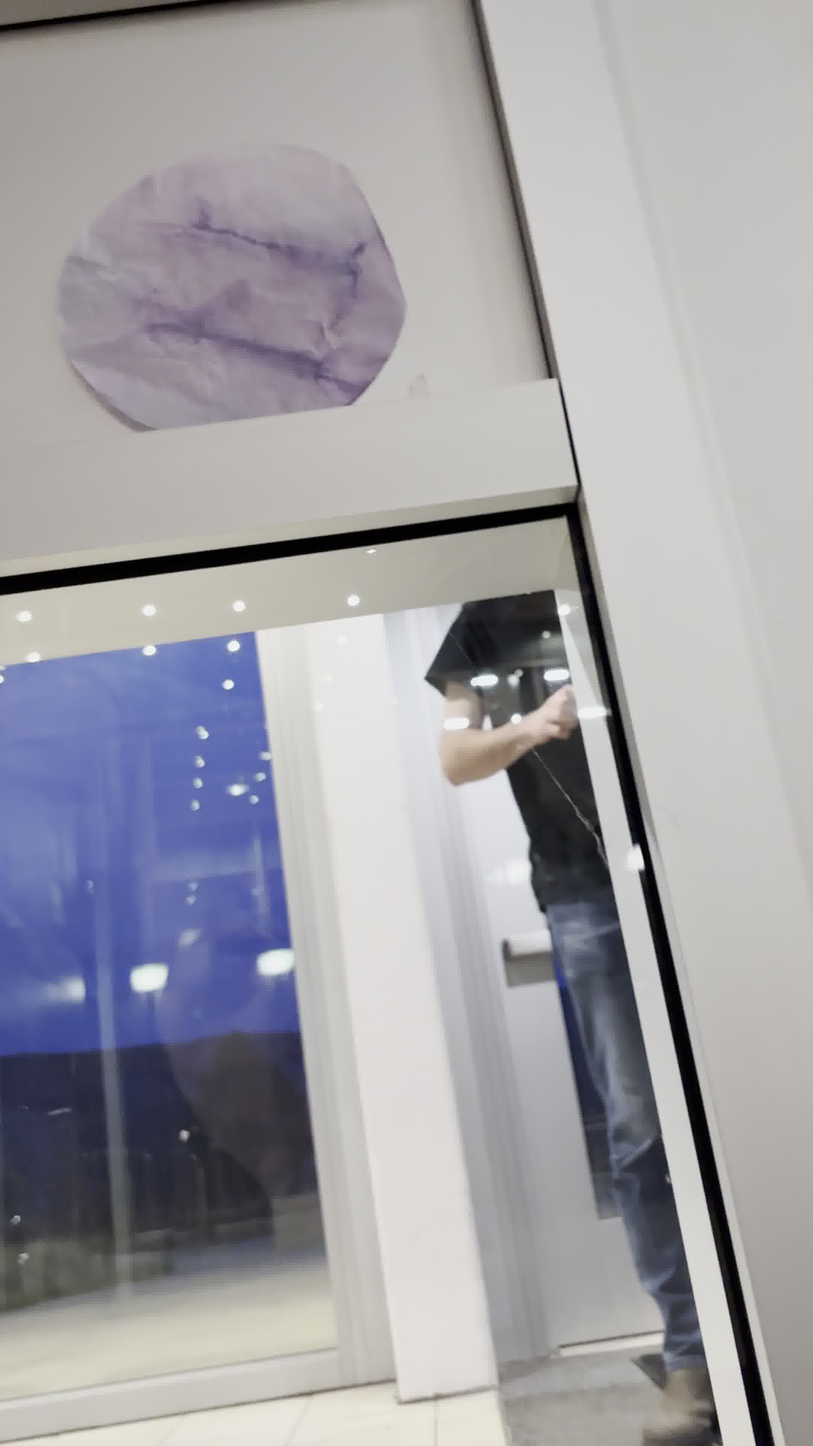Target: (45, 129, 419, 443)
